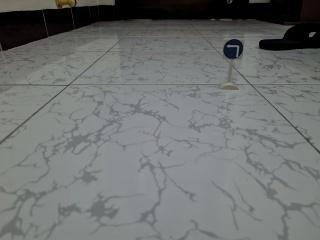left: (217, 34, 249, 66)
